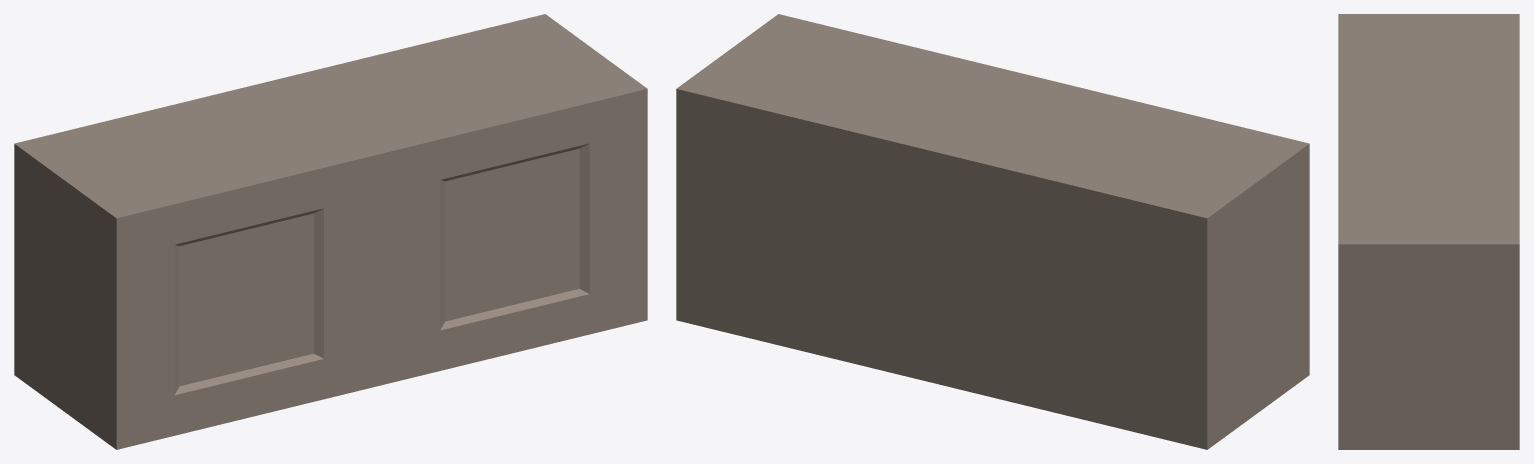
The model's file is 12-15-High-12-Deep_std_001_W36in_2D.glb.
3 renders of one model, left to right at view 1: azimuth 30°, elevation 25°; view 2: azimuth 150°, elevation 25°; view 3: azimuth 270°, elevation 25°, orthographic. The views are drawn at different scales.
Visible parts, largest first — view 1: 12-15-High-12-Deep.std.001_W36in_2D; view 2: 12-15-High-12-Deep.std.001_W36in_2D; view 3: 12-15-High-12-Deep.std.001_W36in_2D.
Part boxes in pixels (x1=…): 12-15-High-12-Deep.std.001_W36in_2D: x1=14, y1=14, x2=647, y2=449; 12-15-High-12-Deep.std.001_W36in_2D: x1=676, y1=14, x2=1309, y2=449; 12-15-High-12-Deep.std.001_W36in_2D: x1=1338, y1=14, x2=1519, y2=449.
Bounding box in the file's own units: 0.9144 × 0.381 × 0.3048.
